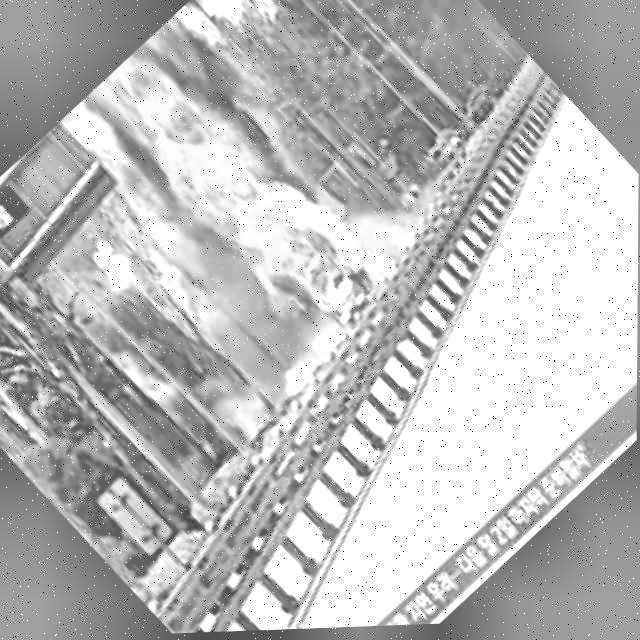Fire: (69, 10, 412, 377), (281, 353, 323, 395)
